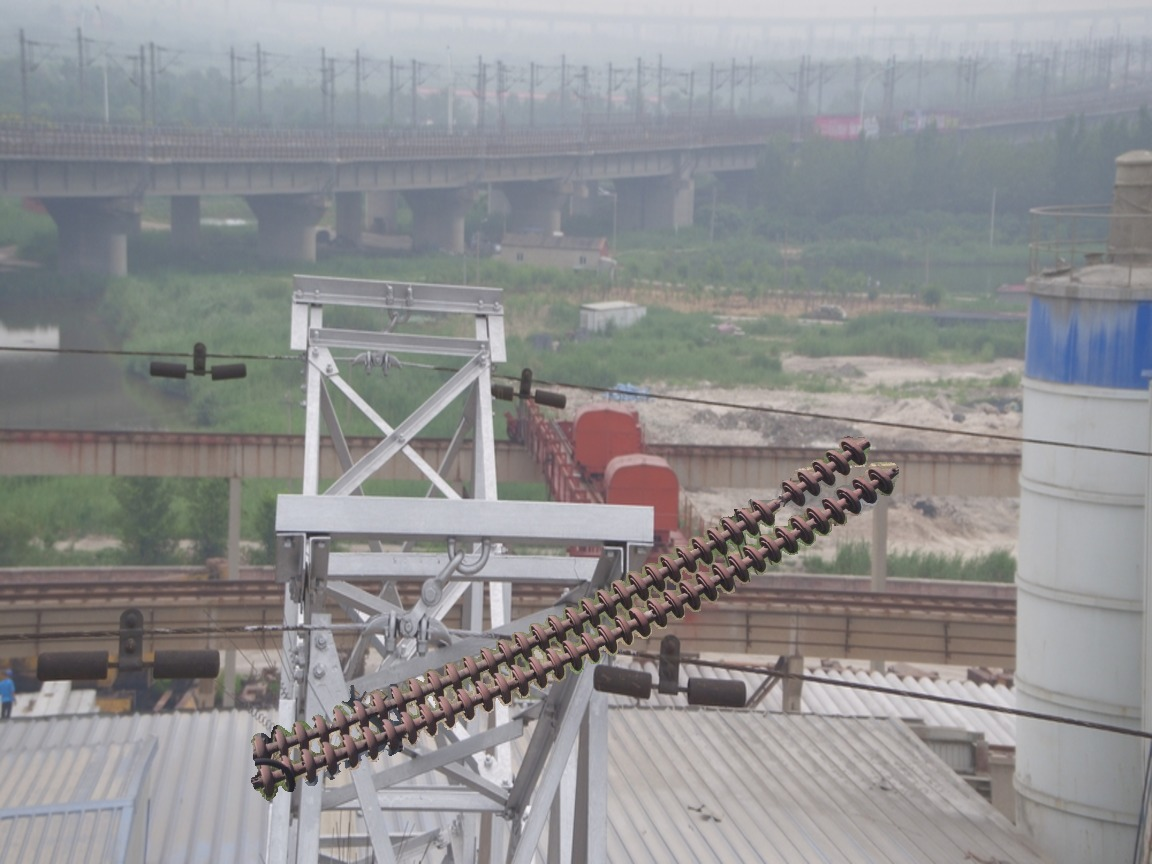defect: (752, 472, 805, 527)
